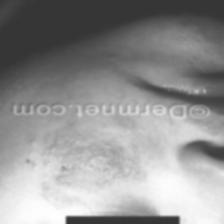Unclassified: (14, 127, 150, 190)
